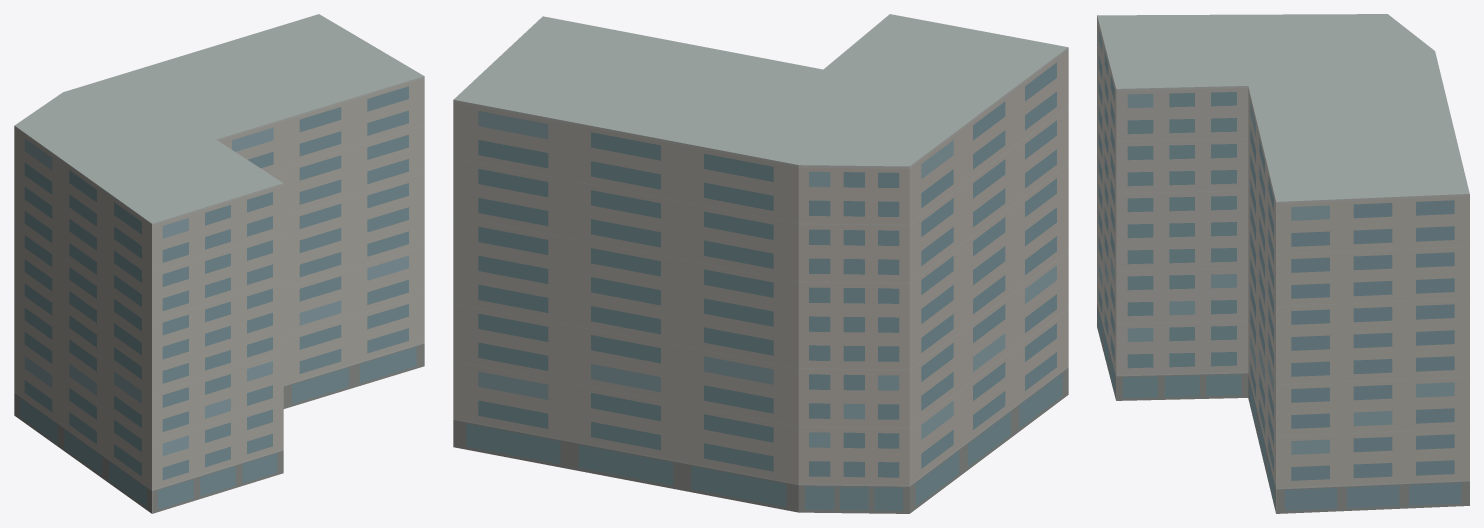
The model's file is residential-b3ea539f-ec83-41f7-a9d7-eaf21187490f.glb.
3 views of the same model, side by side, from view 1: azimuth 30°, elevation 25°; view 2: azimuth 150°, elevation 25°; view 3: azimuth 270°, elevation 25° (orthographic). The views are drawn at different scales.
Parts seen in each view (by area): view 1: residential-b3ea539f-ec83-41f7-a9d7-eaf21187490f.tmp; view 2: residential-b3ea539f-ec83-41f7-a9d7-eaf21187490f.tmp; view 3: residential-b3ea539f-ec83-41f7-a9d7-eaf21187490f.tmp.
Part boxes in pixels (box(x1,y1,x2,y2)): residential-b3ea539f-ec83-41f7-a9d7-eaf21187490f.tmp: box(14, 14, 424, 513); residential-b3ea539f-ec83-41f7-a9d7-eaf21187490f.tmp: box(453, 14, 1068, 513); residential-b3ea539f-ec83-41f7-a9d7-eaf21187490f.tmp: box(1097, 14, 1469, 513).
Bounding box in the file's own units: 45.25 × 35 × 37.92.
